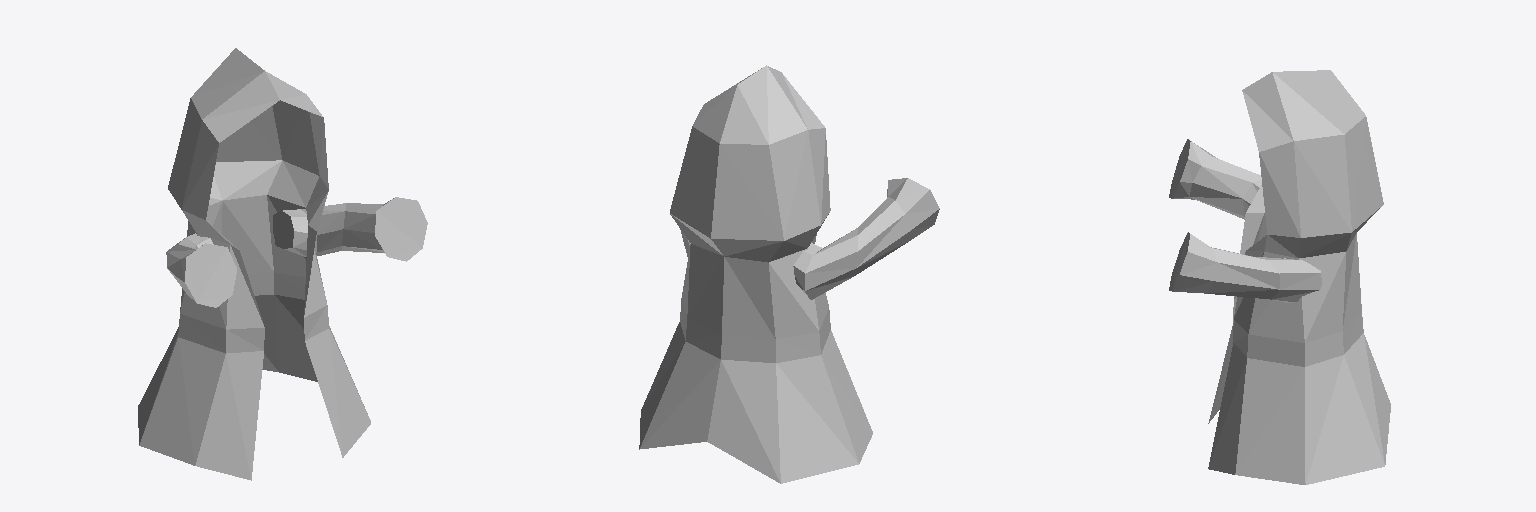
The model's file is drink_color.obj.
3 views of the same model, side by side, from view 1: azimuth 30°, elevation 25°; view 2: azimuth 150°, elevation 25°; view 3: azimuth 270°, elevation 25° (orthographic).
Visible parts, largest first — view 1: COLOR_ME.001_COLOR_ME.014, COLOR_ME.002_COLOR_ME.013; view 2: COLOR_ME.001_COLOR_ME.014, COLOR_ME.002_COLOR_ME.013; view 3: COLOR_ME.001_COLOR_ME.014, COLOR_ME.002_COLOR_ME.013.
Boxes of the visible parts, box(x1,y1,x2,y2) form: COLOR_ME.001_COLOR_ME.014: box(138, 48, 370, 480); COLOR_ME.002_COLOR_ME.013: box(166, 197, 427, 307); COLOR_ME.001_COLOR_ME.014: box(639, 65, 872, 483); COLOR_ME.002_COLOR_ME.013: box(680, 178, 939, 299); COLOR_ME.001_COLOR_ME.014: box(1208, 70, 1390, 484); COLOR_ME.002_COLOR_ME.013: box(1169, 139, 1321, 302).
Size of the model in its own units: 0.9545 by 1.41 by 0.7567.